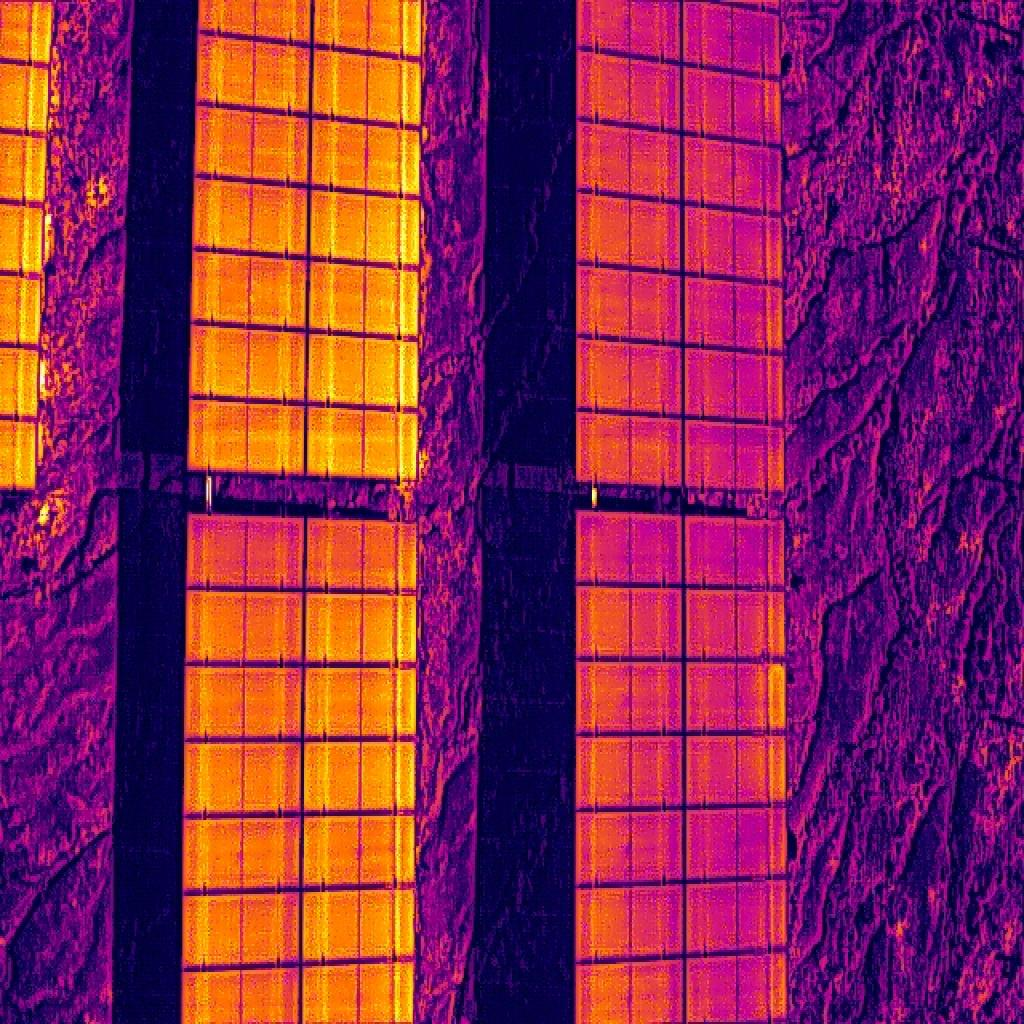panel: (186, 512, 305, 590), (193, 176, 310, 255), (308, 333, 420, 408), (577, 193, 683, 271), (576, 510, 683, 587), (311, 188, 415, 267), (576, 811, 687, 885), (685, 880, 788, 955), (685, 663, 788, 732)
